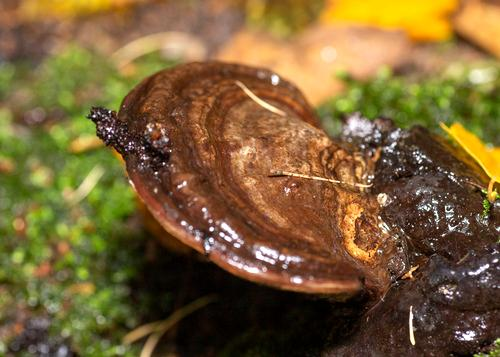Ganoderma - Fruit Body: (113, 59, 394, 297)
